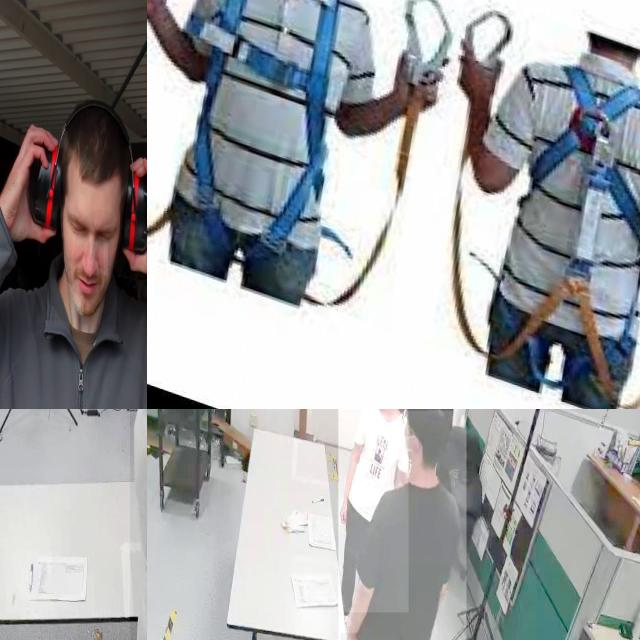Ear-protection: (26, 93, 147, 327)
Harness: (194, 0, 339, 252), (531, 66, 640, 282)
No_Glasses: (64, 200, 118, 254)
hand_noglove: (336, 498, 348, 524)
person: (0, 88, 147, 409), (338, 409, 467, 640), (337, 409, 408, 612)
